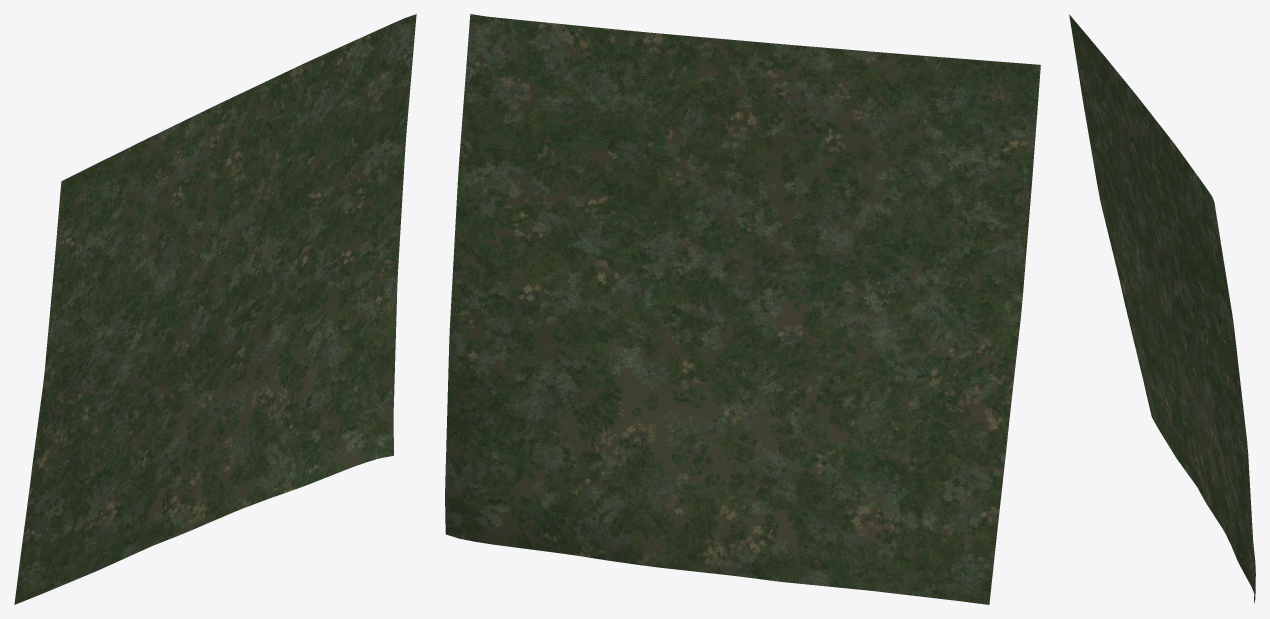
The model's file is terrain_near_09_05.obj.
3 renders of one model, left to right at view 1: azimuth 30°, elevation 25°; view 2: azimuth 150°, elevation 25°; view 3: azimuth 270°, elevation 25°, orthographic. The views are drawn at different scales.
Visible parts, largest first — view 1: terrain_near_09_05; view 2: terrain_near_09_05; view 3: terrain_near_09_05.
Part boxes in pixels (x1,y1,x2,y2): terrain_near_09_05: (14, 14, 416, 604); terrain_near_09_05: (445, 14, 1040, 604); terrain_near_09_05: (1069, 14, 1255, 603).
Size of the model in its own units: 64 by 64 by 26.88.
Materials: 1 (1 with a texture image).
